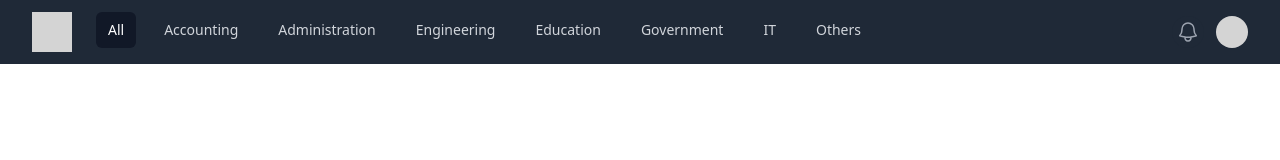
Test: Navigation component › renders user menu with Sign in when user is not logged in
The width and height of the screenshot is (1280, 160).
Click the 2nd button "Open user menu" at (1232,32), box [1216, 16, 1248, 48]
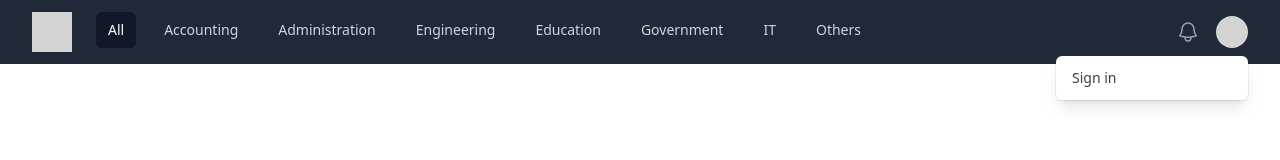
Result: the menu item "Sign in" is shown at [1072, 68, 1116, 87]
